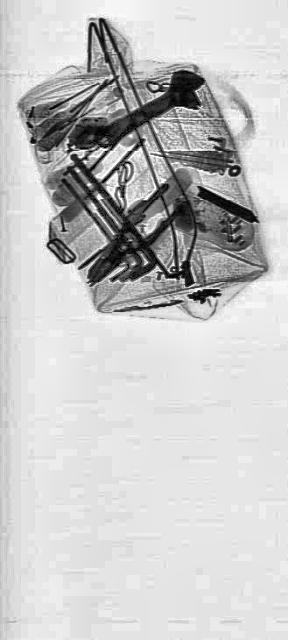Pliers: (84, 172, 180, 302)
Wrench: (91, 51, 209, 171)
